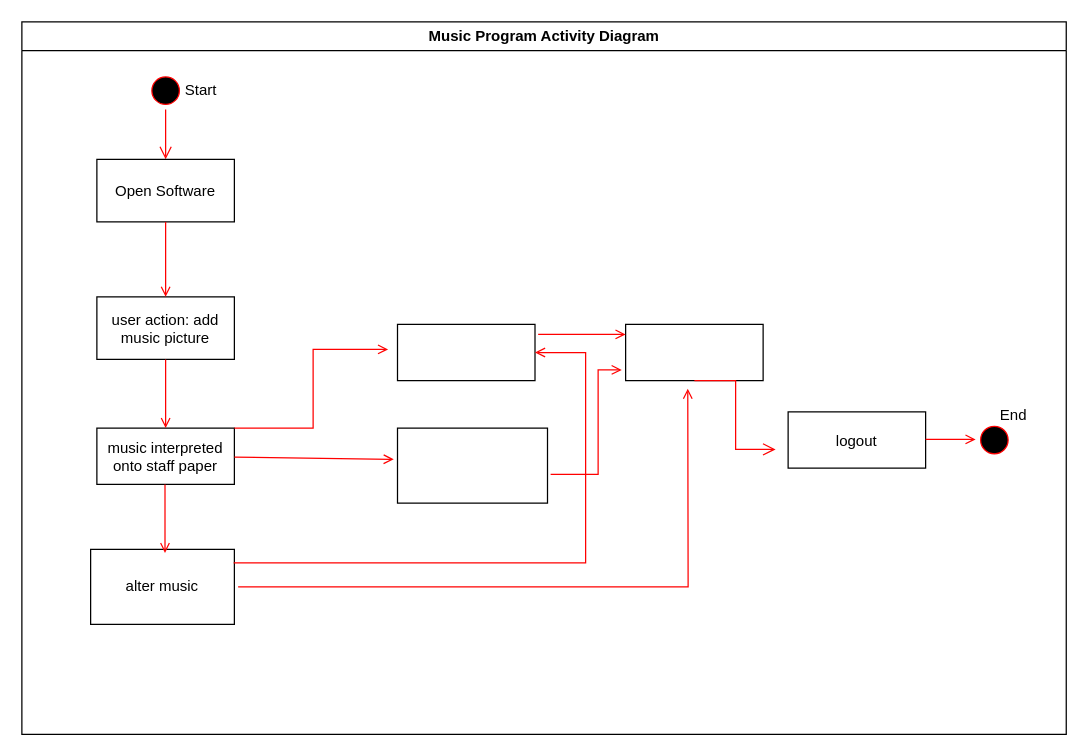
This 1089x756 diagram has some shape labels left out. The shapes that lost their labels are listed below. From the top down, each one's centre as x and y in pixels, then its label:
the point at 465,352: save music
the point at 693,352: print music
the point at 472,465: play music
